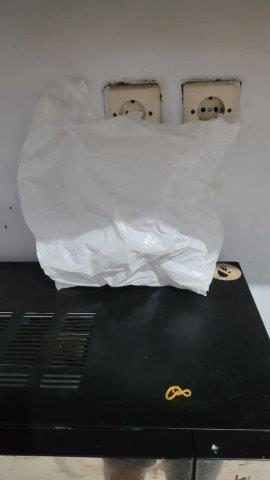plastik: (20, 76, 230, 295)
